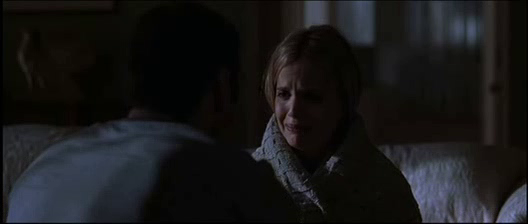face: (275, 75, 325, 147)
mcu: (1, 1, 528, 224)
ots: (6, 1, 305, 223)
person: (250, 25, 423, 222)
